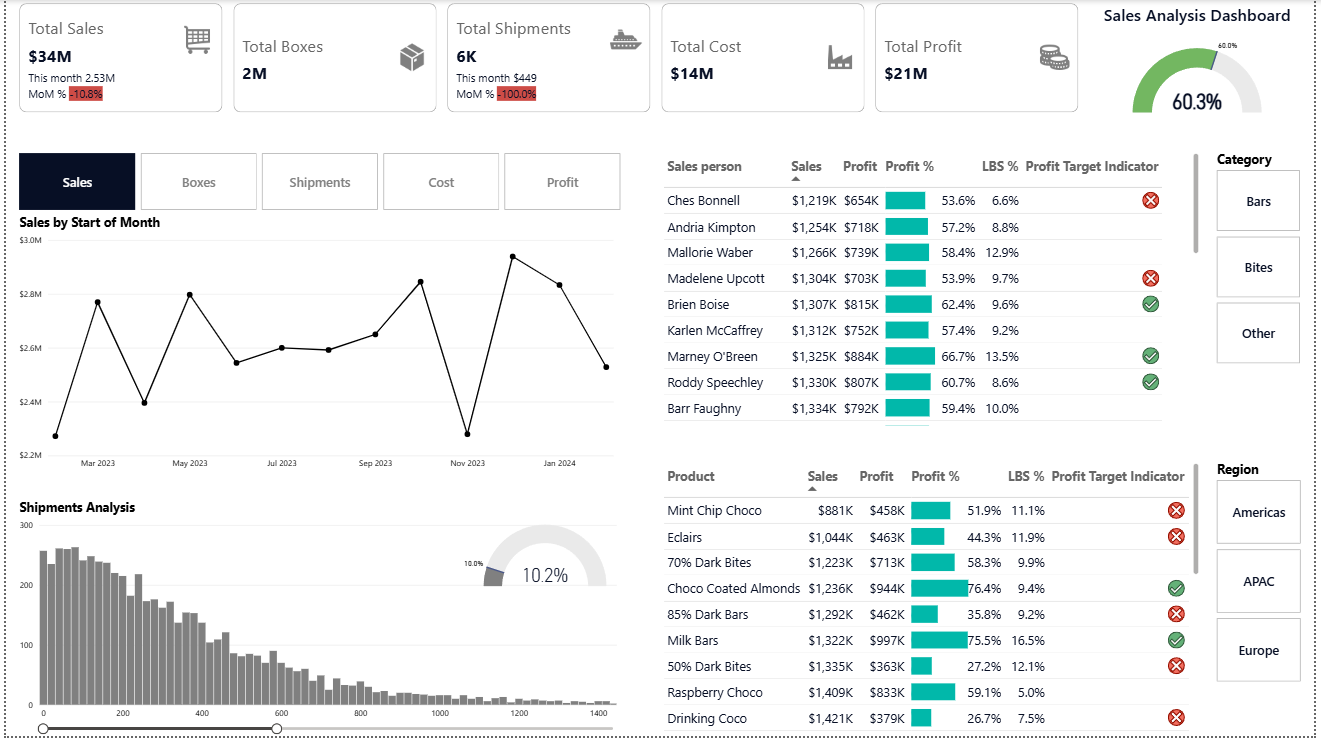

Layout of this report page (visuals, bound fields, positions):
{"tool":"powerbi","page":{"name":"Sales Report","canvas":[1920,1080],"ordinal":1},"visuals":[{"type":"cardVisual","fields":{"Data":["_measure.Total Sales","_measure.Total Boxes","_measure.Total Shipments","_measure.Total Cost","_measure.Total Profit"]},"box":[14.7,0,1564.6,170.6],"z":0},{"type":"gauge","fields":{"Y":["_measure.Profit %"]},"box":[1592.1,47.7,311.8,122.9],"z":1000},{"type":"lineChart","fields":{"Y":["_measure.Total Sales"],"Category":["calendar.Start of Month"]},"box":[14.4,312.9,895.4,384.9],"z":2000},{"type":"advancedSlicerVisual","fields":{"Values":["Measure Selector.Measure Selector"]},"box":[14.7,220.1,895.1,93.5],"z":3000},{"type":"clusteredColumnChart","title":"Shipments Analysis","fields":{"Category":["shipments.Boxes (bins)"],"Y":["_measure.Total Shipments","_measure.Total Shipments"]},"box":[14.7,731.9,895.1,348.5],"z":4000},{"type":"gauge","fields":{"Y":["_measure.LBS %"]},"box":[662.8,757.5,224.4,115.3],"z":5000},{"type":"tableEx","fields":{"Values":["people.Sales person","_measure.Total Sales","_measure.Total Profit","_measure.Profit %","_measure.LBS %","_measure.Profit Target Indicator"]},"box":[959.3,220.1,796.1,409],"z":6000},{"type":"advancedSlicerVisual","fields":{"Values":["products.Category"]},"box":[1771.9,220.1,132.1,319.2],"z":7000},{"type":"advancedSlicerVisual","fields":{"Values":["locations.Region"]},"box":[1771.9,675,133.9,330.2],"z":8000},{"type":"tableEx","fields":{"Values":["products.Product","_measure.Total Sales","_measure.Total Profit","_measure.Profit %","_measure.LBS %","_measure.Profit Target Indicator"]},"box":[959.3,675,796.1,405.4],"z":9000},{"type":"textbox","box":[100,100,300,300],"z":9001},{"type":"textbox","box":[1592.1,0,311.8,47.7],"z":9002}]}

Visuals, with their boxes in screenshot pixels (x1, y1, x2, y2), scaled from the page's 1920x1080 canvas onto the 1321x741 screenshot:
cardVisual - _measure.Total Sales x _measure.Total Boxes: 10, 0, 1087, 117
gauge - _measure.Profit %: 1095, 33, 1310, 117
lineChart - _measure.Total Sales x calendar.Start of Month: 10, 215, 626, 479
advancedSlicerVisual - Measure Selector.Measure Selector: 10, 151, 626, 215
"Shipments Analysis" clusteredColumnChart: 10, 502, 626, 740
gauge - _measure.LBS %: 456, 520, 610, 599
tableEx - people.Sales person x _measure.Total Sales: 660, 151, 1208, 432
advancedSlicerVisual - products.Category: 1219, 151, 1310, 370
advancedSlicerVisual - locations.Region: 1219, 463, 1311, 690
tableEx - products.Product x _measure.Total Sales: 660, 463, 1208, 740
textbox: 69, 69, 275, 274
textbox: 1095, 0, 1310, 33
